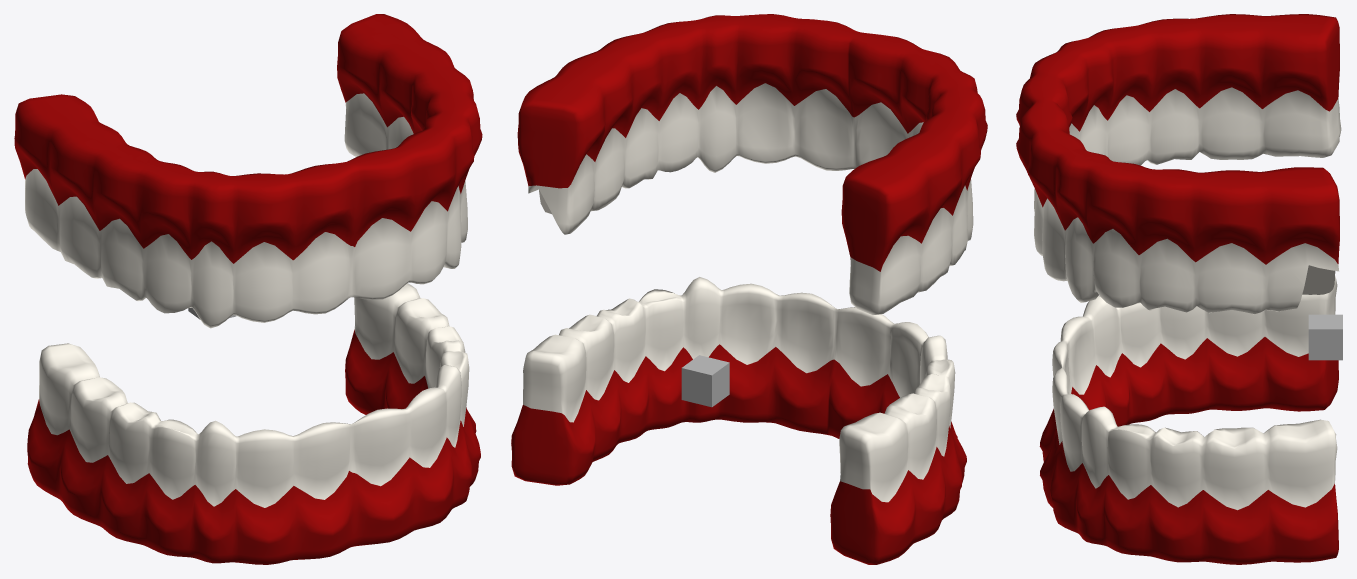
Rendered from broken_thirdmolarR.fbx.
3 views of the same model, side by side, from view 1: azimuth 30°, elevation 25°; view 2: azimuth 150°, elevation 25°; view 3: azimuth 270°, elevation 25° (orthographic). The views are drawn at different scales.
Visible parts, largest first — view 1: TeethUpper, TeethLower; view 2: TeethUpper, TeethLower, Controller; view 3: TeethUpper, TeethLower, Controller.
Boxes of the visible parts, bbox=[...] form: TeethUpper: bbox=[14, 14, 482, 328]; TeethLower: bbox=[27, 283, 480, 564]; TeethUpper: bbox=[517, 14, 987, 314]; TeethLower: bbox=[511, 277, 966, 564]; Controller: bbox=[681, 355, 729, 407]; TeethUpper: bbox=[1016, 14, 1341, 314]; TeethLower: bbox=[1039, 276, 1338, 564]; Controller: bbox=[1308, 314, 1342, 360].
Bounding box in the file's own units: 193 × 180 × 140.
